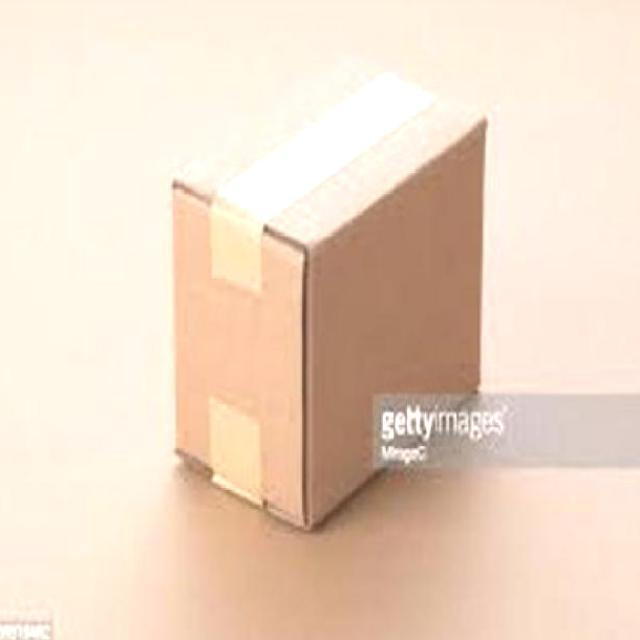box: (172, 52, 488, 532)
